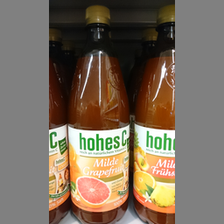juice: (66, 4, 131, 224), (131, 4, 176, 224)
